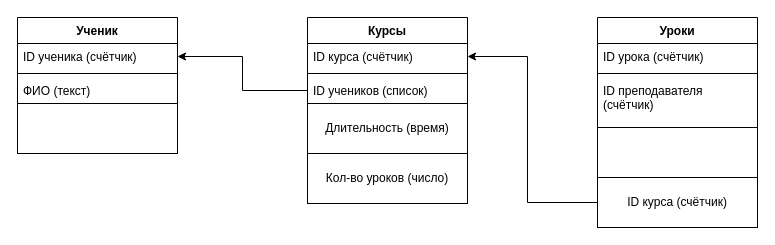
Image size: 775x245. Some labels were removed from this diagram. The centre of each missing label's shape, as x and y in pixels:
"ID предмета (счётчик)" belongs at [677,152].
"Номер телефона (текст)" belongs at [97,128].
